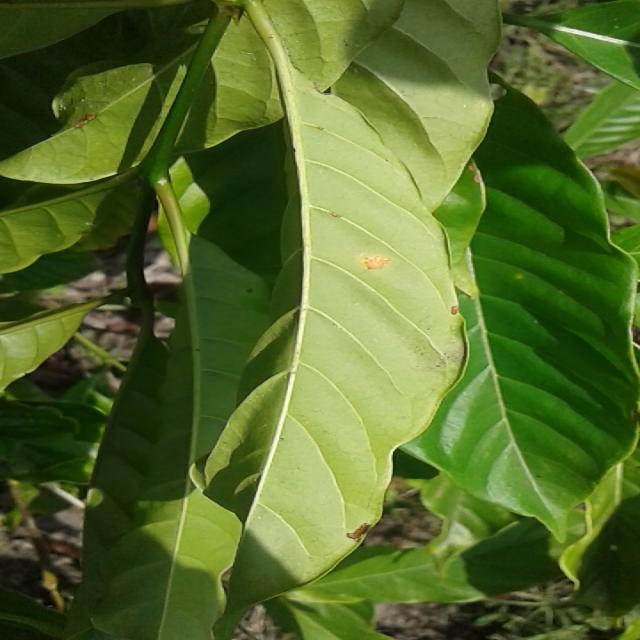Enfermedad-Roya: (234, 55, 465, 602)
